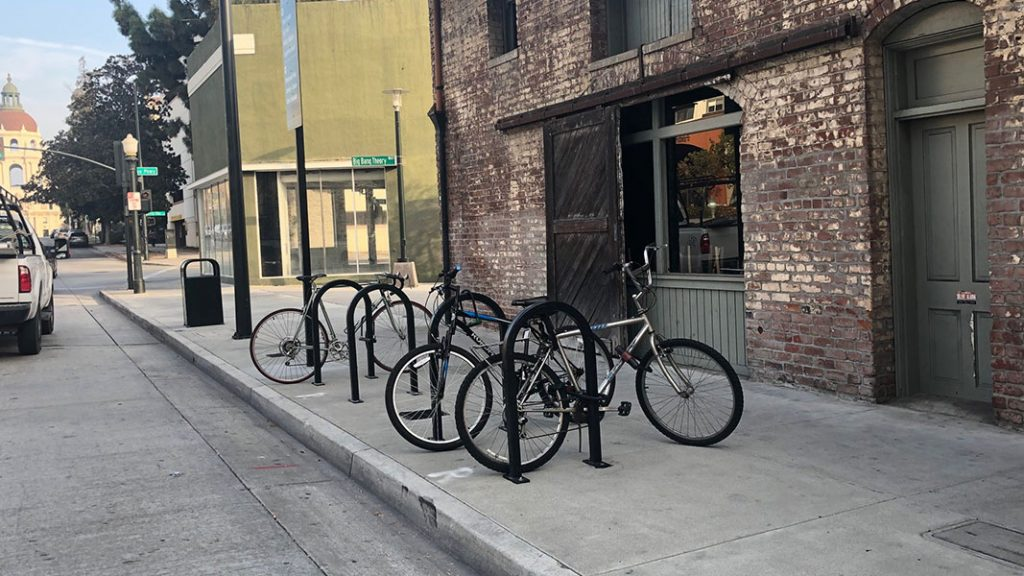bike: (456, 257, 762, 489), (253, 267, 444, 384)
